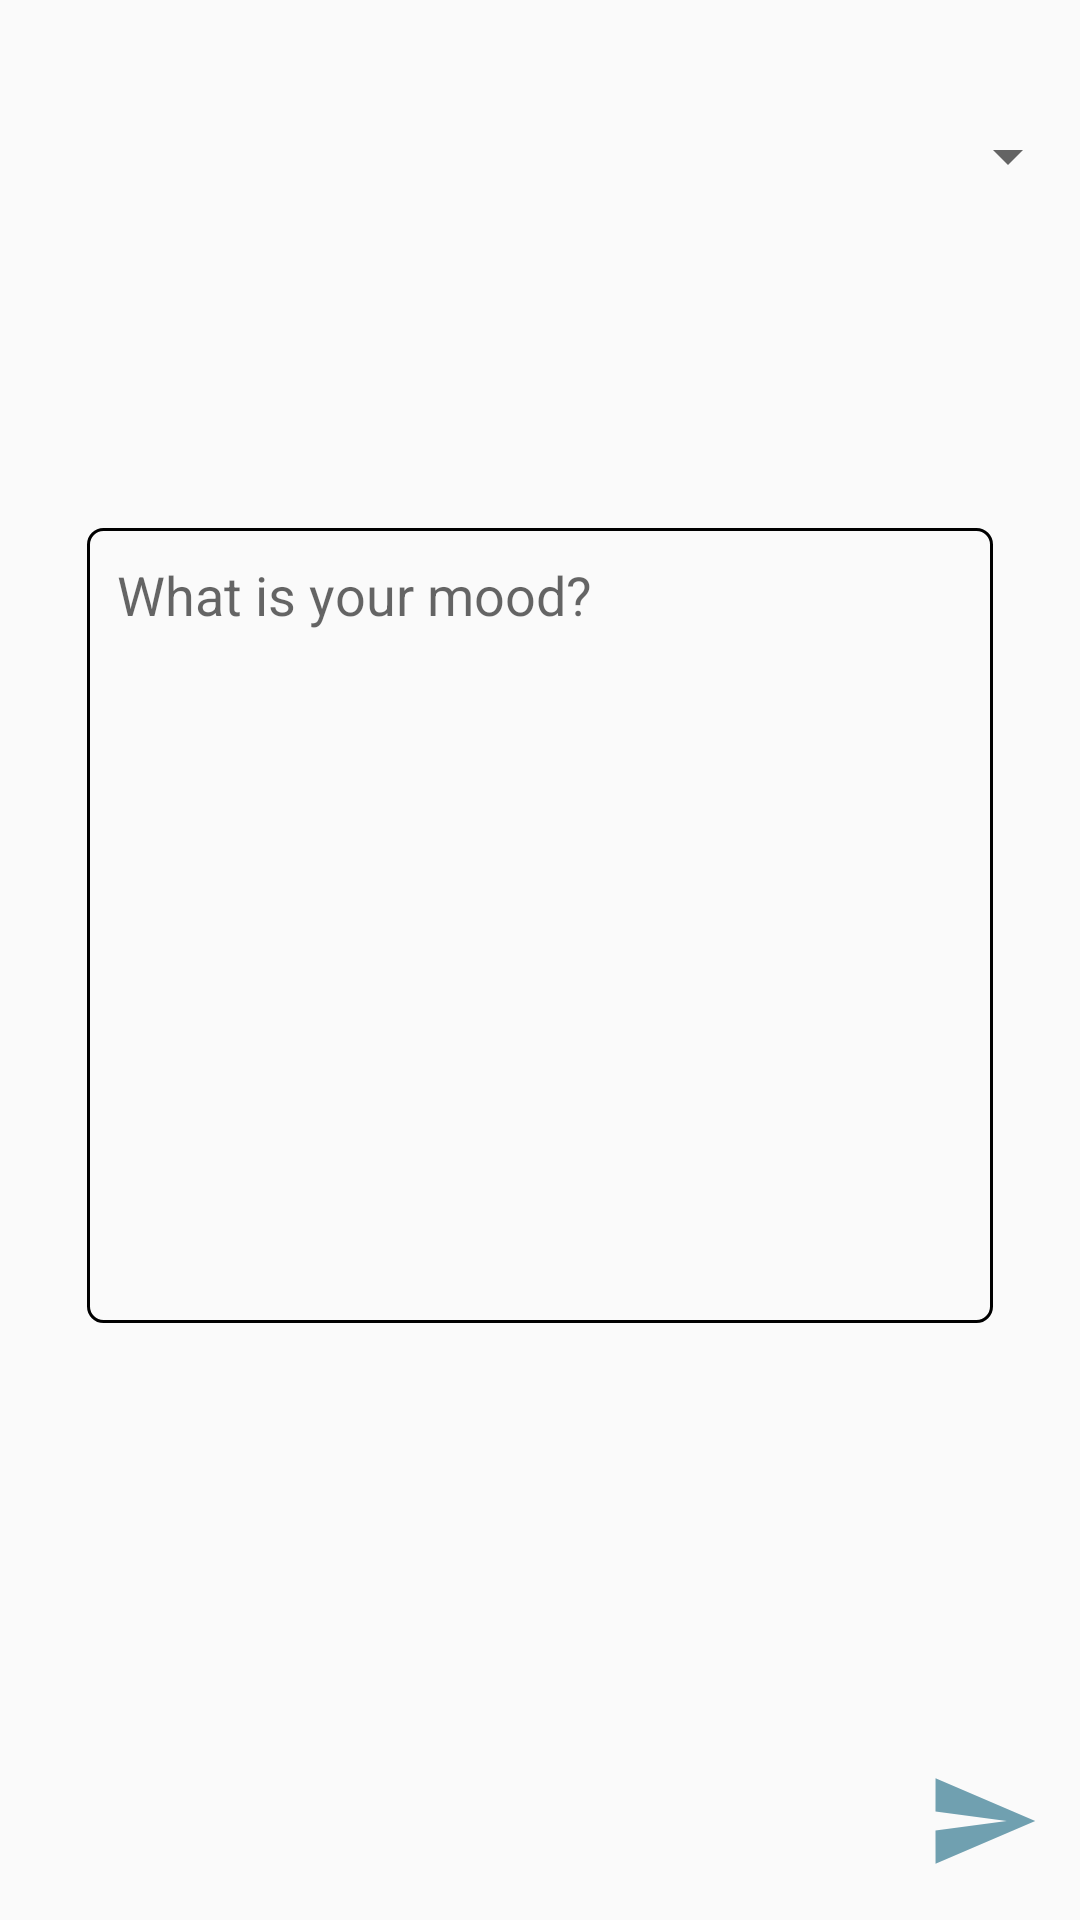

Named icons in this screenshot (1080px×1920px) and their centers, point (x, y):
send: point (985, 1821)
